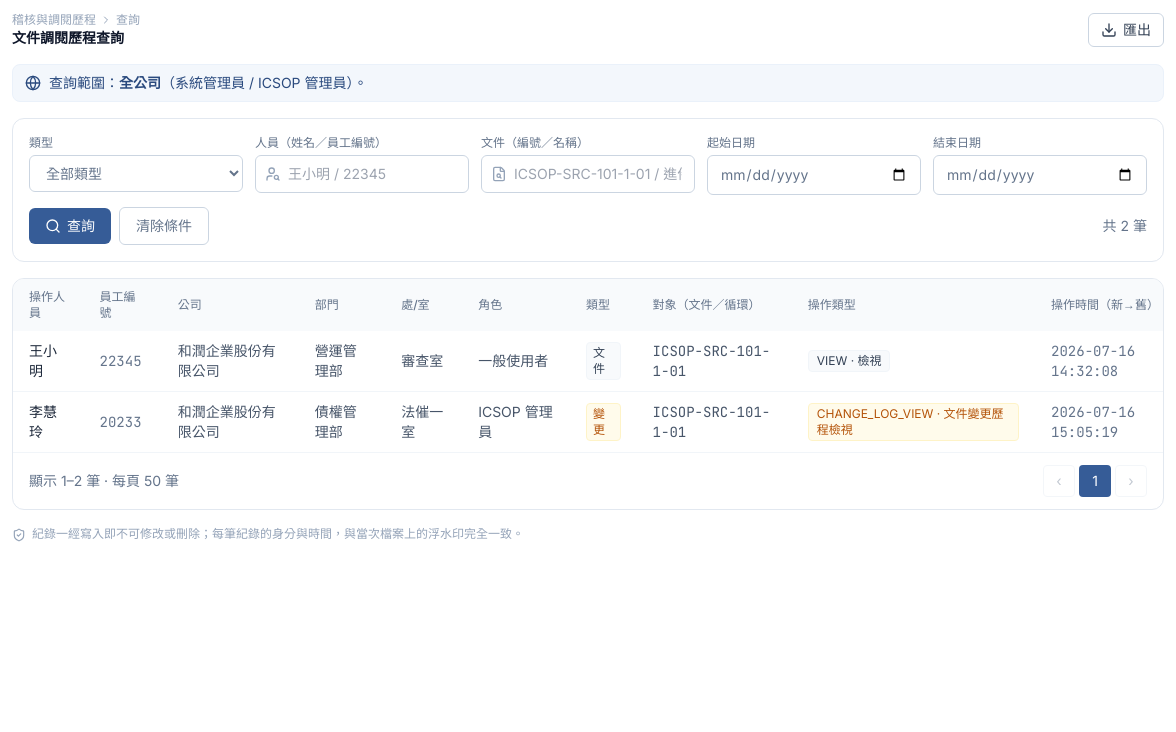
Test case: AccessHistoryPage — 文件調閱歷程查詢（F024） › 匯出 → 呼叫 exportAccessHistory（遵循當前查詢條件），成功後顯示新逐字回饋（AC-F9 ①）
The width and height of the screenshot is (1176, 732).
Expected: the text "王小明" is shown, [13, 331, 84, 392]
In the field labelled "人員（姓名／員工編號）": (362, 174) [255, 155, 469, 193], type "王小明"
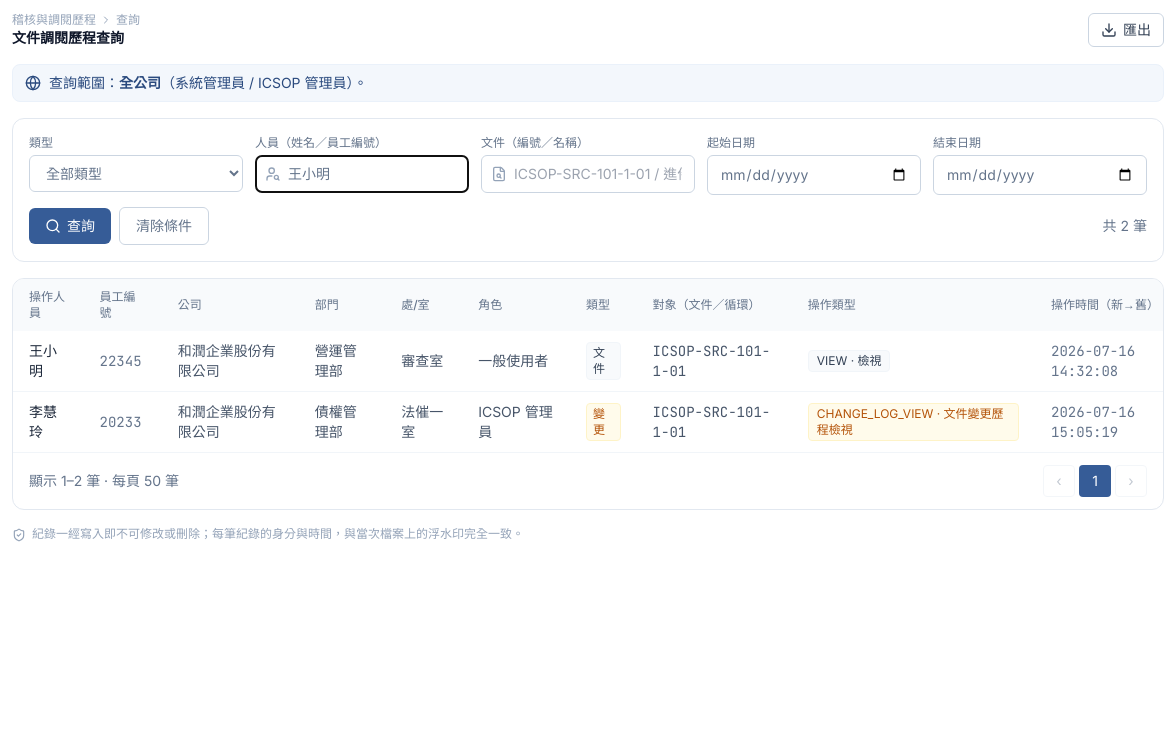
Click the button "匯出": click(1126, 30) [1088, 13, 1164, 47]
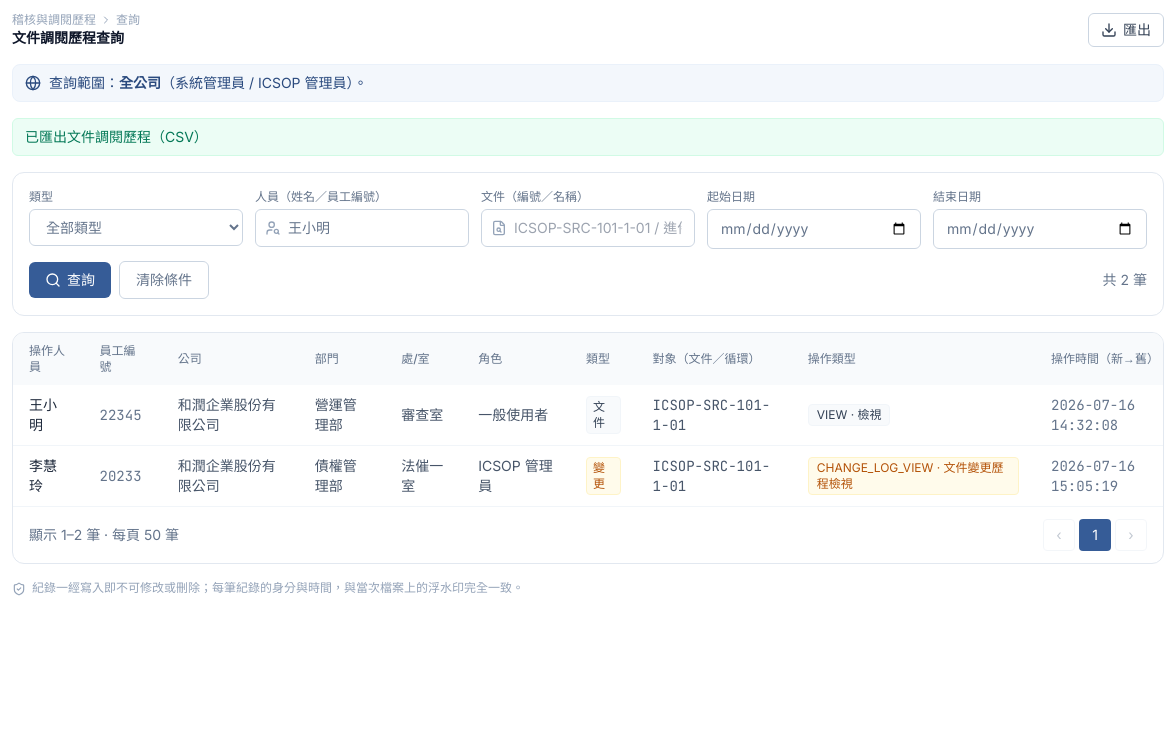
Result: the text "已匯出文件調閱歷程（CSV）" is shown at [25, 128, 208, 145]
